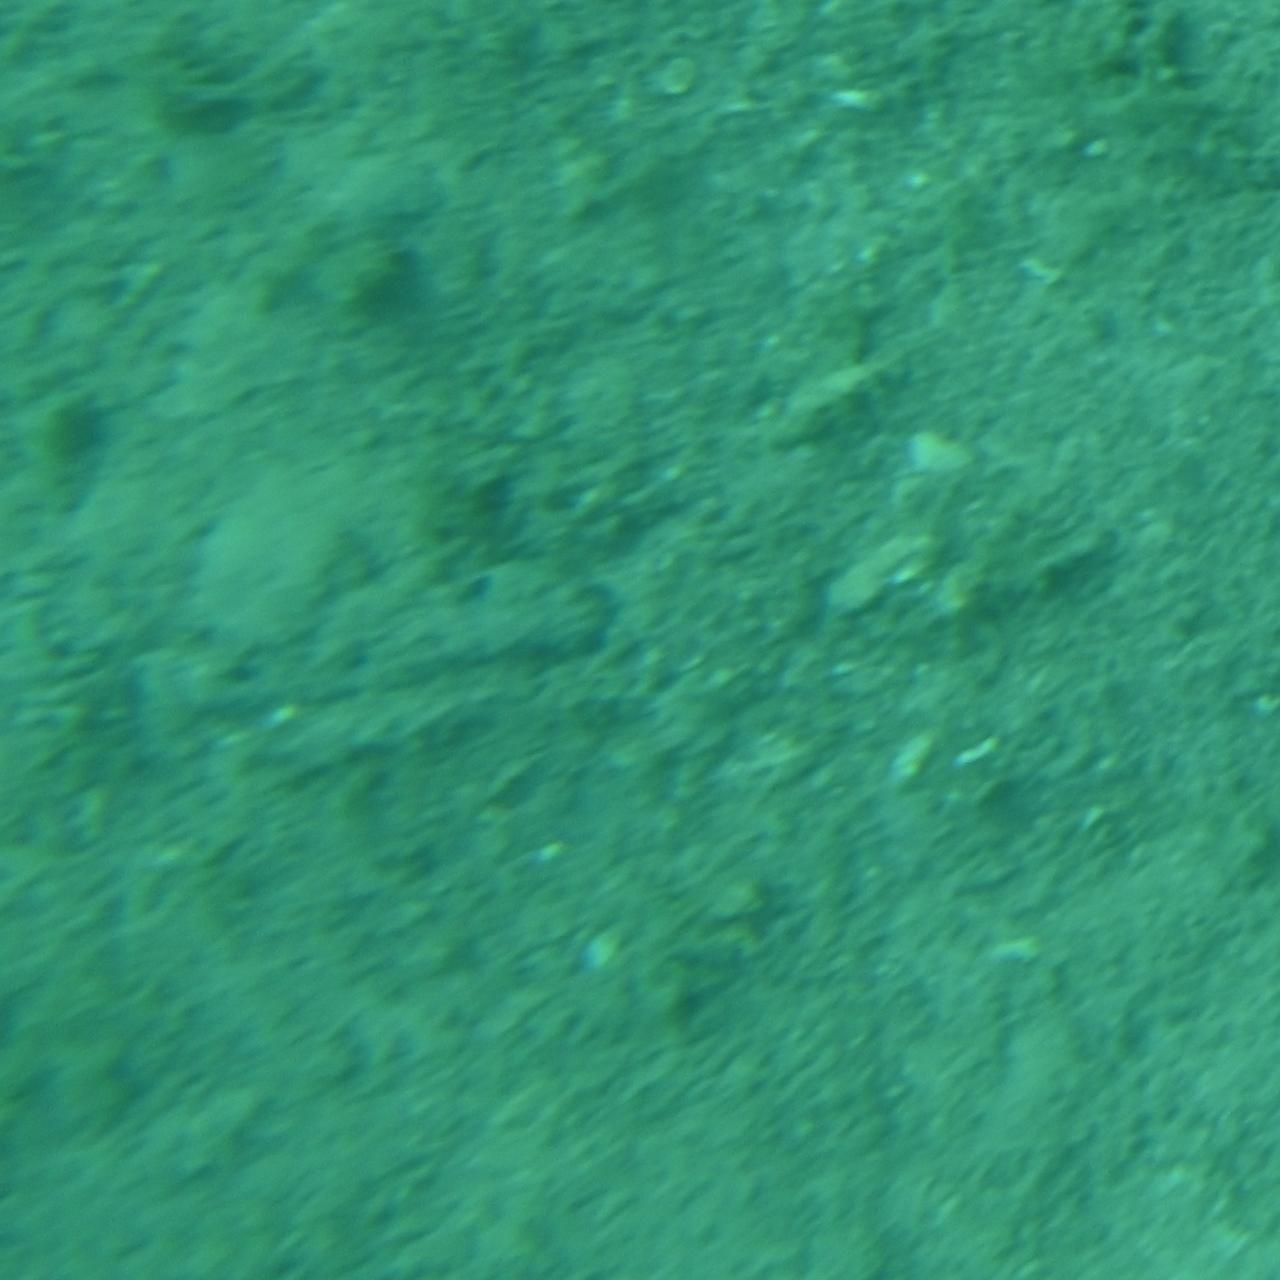Holothuria tubulosa: (123, 530, 622, 750)
